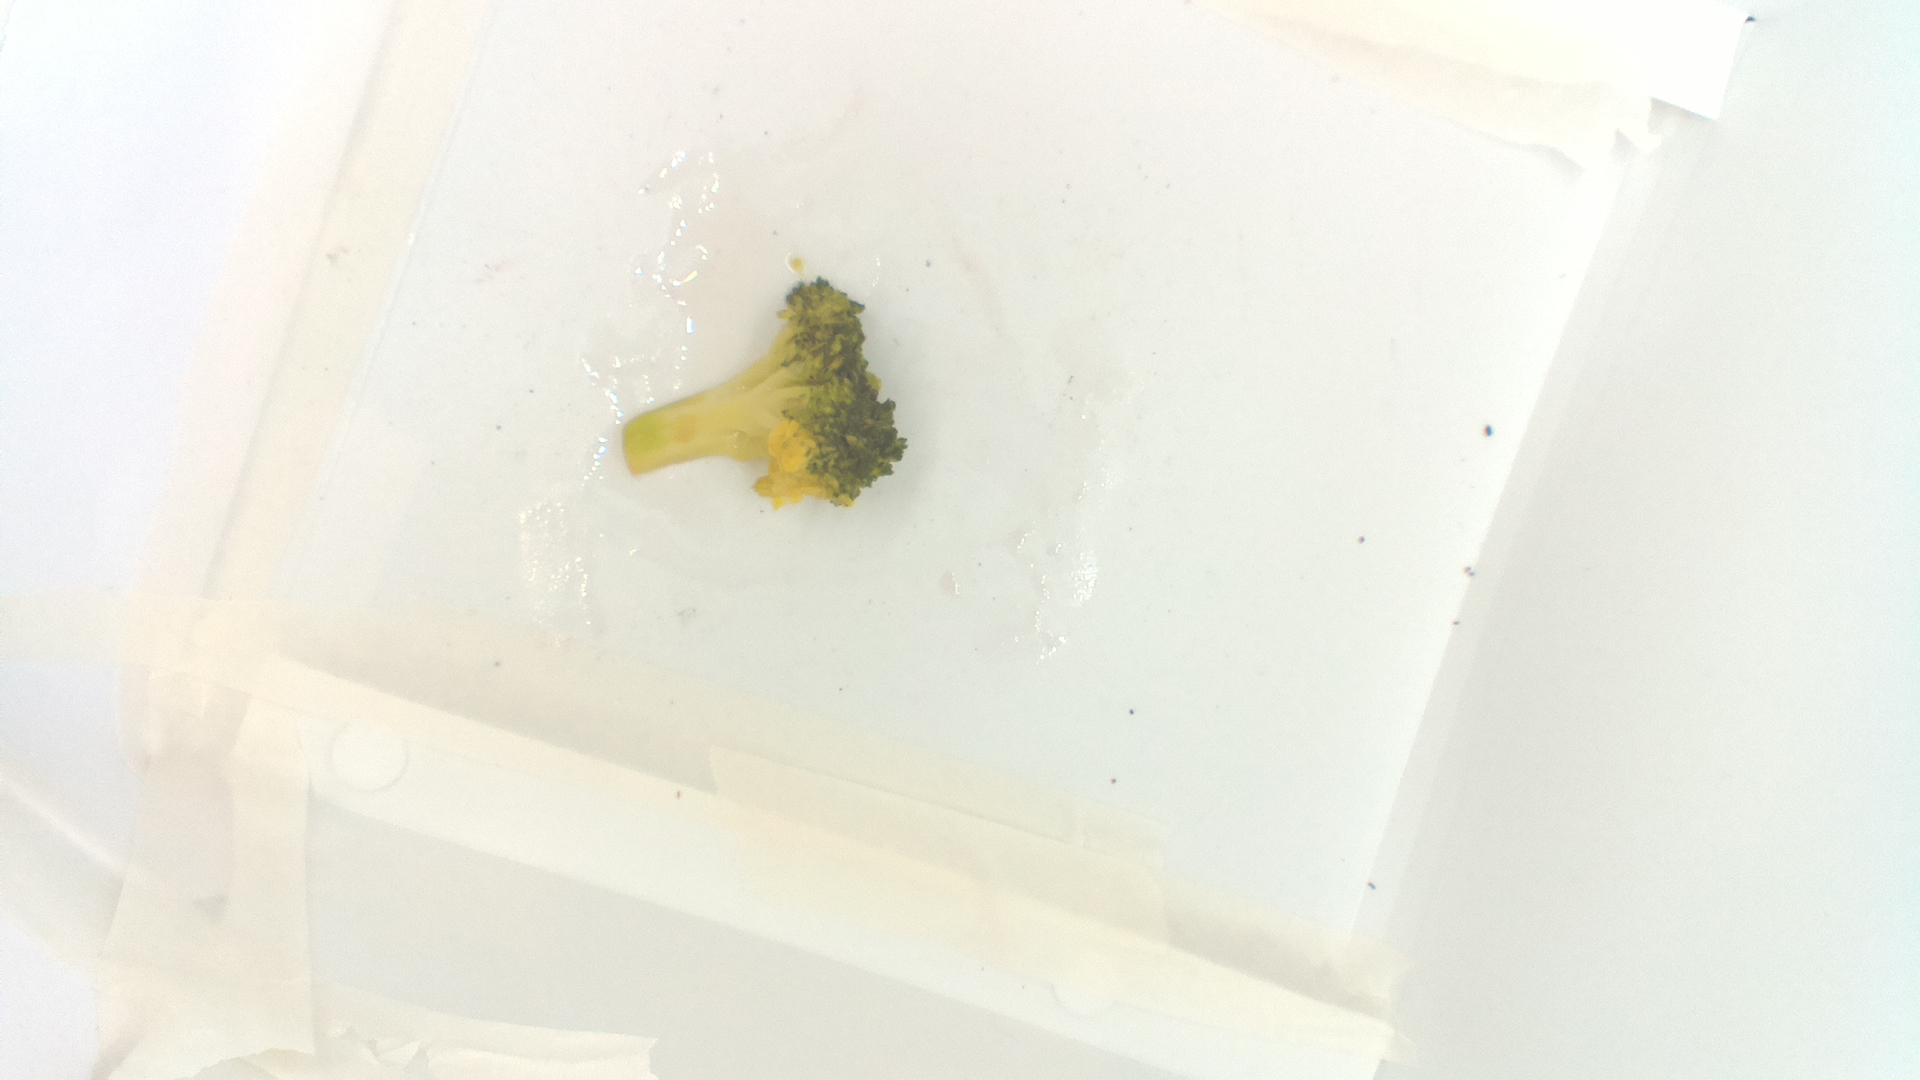vegetable: (621, 276, 909, 512)
